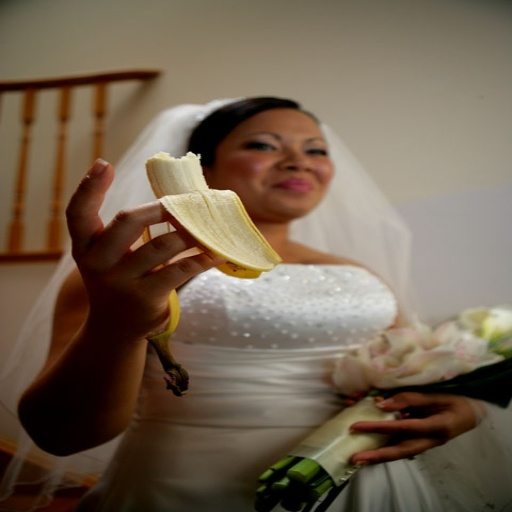hand: (64, 154, 230, 342), (336, 388, 492, 470)
